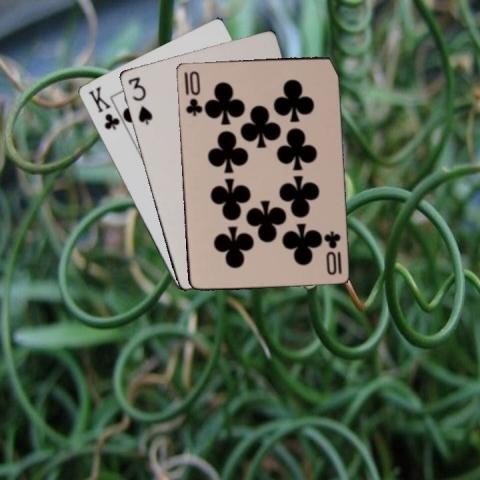10c: (321, 227, 343, 277), (181, 68, 202, 118)
3s: (125, 74, 153, 125)
Kc: (85, 84, 121, 132)
